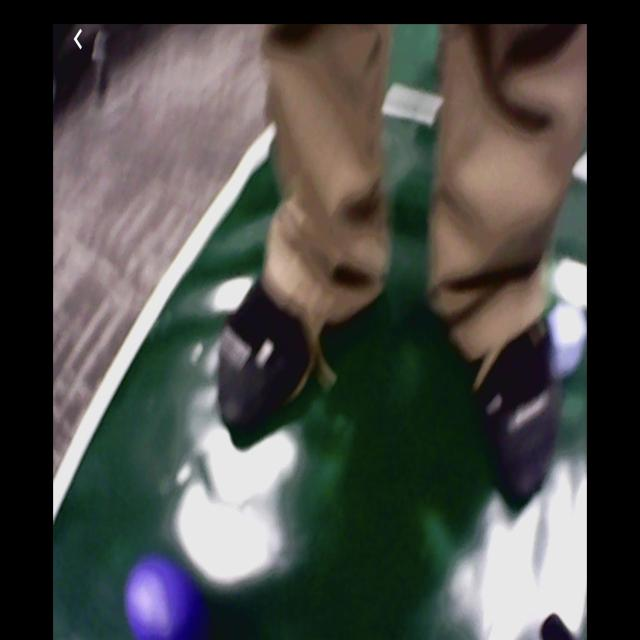ball: (127, 560, 205, 640)
